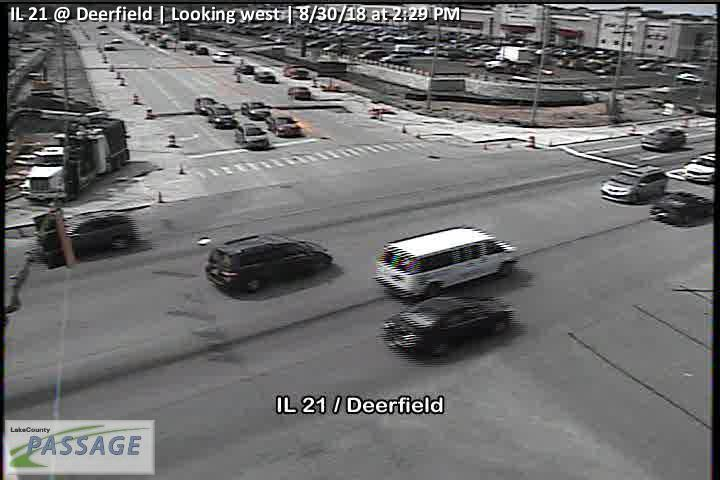SUV: (375, 226, 520, 302), (207, 234, 332, 295), (599, 163, 668, 203)
Sedan: (382, 296, 513, 356), (57, 211, 135, 254), (652, 193, 712, 226), (641, 128, 687, 151), (682, 153, 716, 183), (266, 114, 301, 139), (234, 125, 269, 149), (207, 104, 233, 130), (241, 100, 270, 118), (193, 96, 215, 114), (287, 85, 313, 100), (285, 65, 308, 78), (255, 70, 277, 82), (240, 65, 253, 74)
